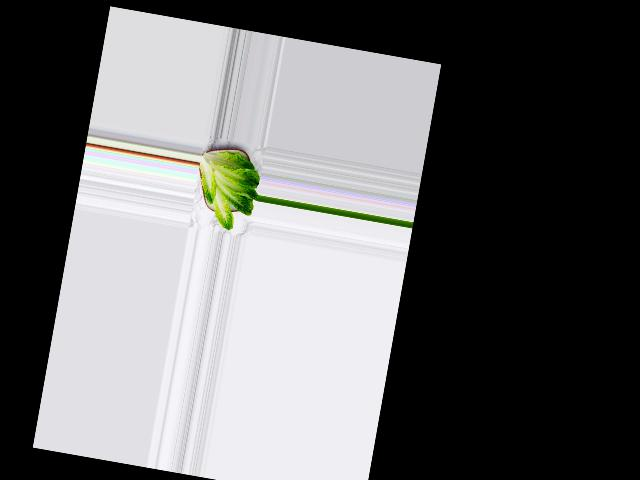lettuce: (190, 142, 266, 235)
